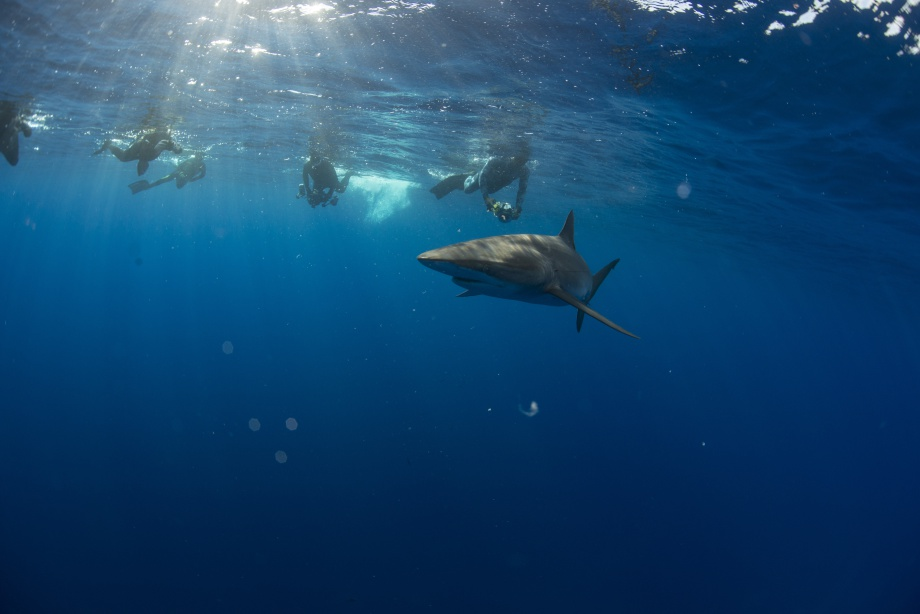Sedoso: (395, 204, 662, 354)
